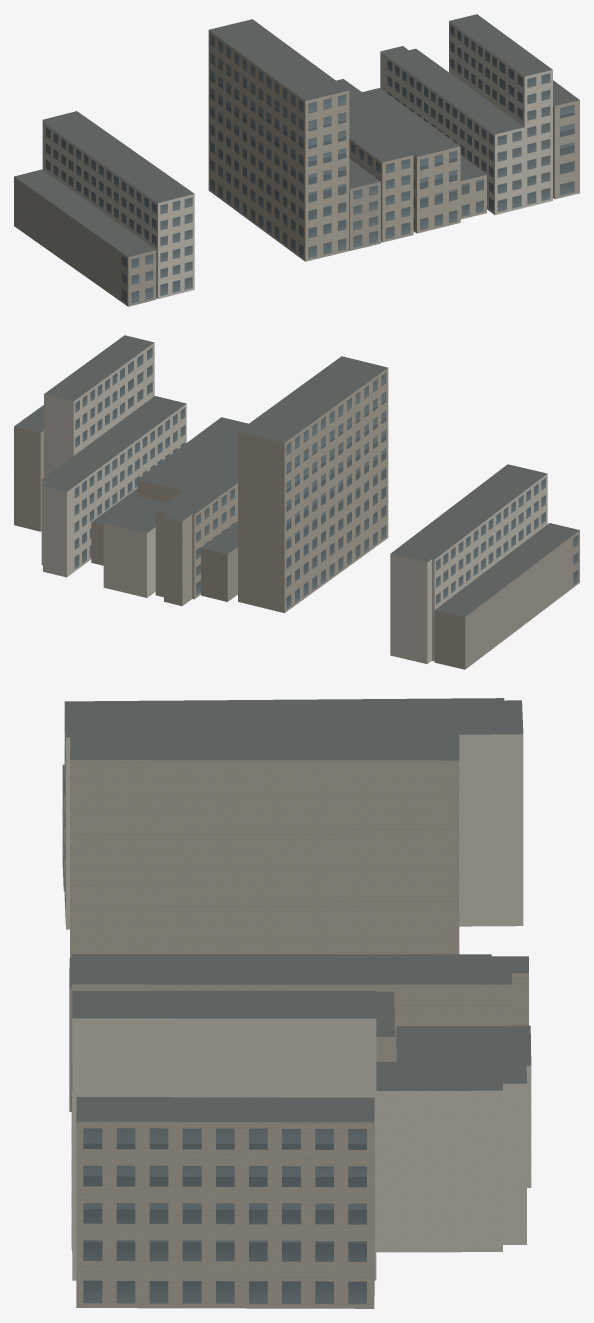
The picture shows the model from 3 angles, top to bottom: view 1: azimuth 30°, elevation 25°; view 2: azimuth 150°, elevation 25°; view 3: azimuth 270°, elevation 25°; orthographic projection. The views are drawn at different scales.
Parts seen in each view (by area): view 1: cell-e005-n000_base_stone, cell-e005-n000_base_glass, cell-e005-n000_base_roof, cell-e005-n000_base_plaster, cell-e005-n000_base_tile-wall; view 2: cell-e005-n000_base_stone, cell-e005-n000_base_roof, cell-e005-n000_base_plaster, cell-e005-n000_base_glass, cell-e005-n000_base_tile-wall; view 3: cell-e005-n000_base_stone, cell-e005-n000_base_roof, cell-e005-n000_base_plaster, cell-e005-n000_base_glass.
Part boxes in pixels (x1,y1,x2,y2): cell-e005-n000_base_stone: (208, 30, 579, 261); cell-e005-n000_base_glass: (46, 25, 574, 303); cell-e005-n000_base_roof: (14, 14, 579, 256); cell-e005-n000_base_plaster: (42, 21, 552, 298); cell-e005-n000_base_tile-wall: (14, 177, 380, 306); cell-e005-n000_base_stone: (14, 368, 388, 612); cell-e005-n000_base_roof: (14, 335, 579, 616); cell-e005-n000_base_plaster: (41, 342, 547, 664); cell-e005-n000_base_glass: (74, 347, 578, 609); cell-e005-n000_base_tile-wall: (201, 530, 579, 669); cell-e005-n000_base_stone: (70, 760, 528, 1308); cell-e005-n000_base_roof: (62, 698, 531, 1122); cell-e005-n000_base_plaster: (64, 709, 531, 1280); cell-e005-n000_base_glass: (62, 715, 366, 1304).
Bounding box in the file's own units: 93.43 × 31.25 × 41.3.
5 materials, 4 textured.
